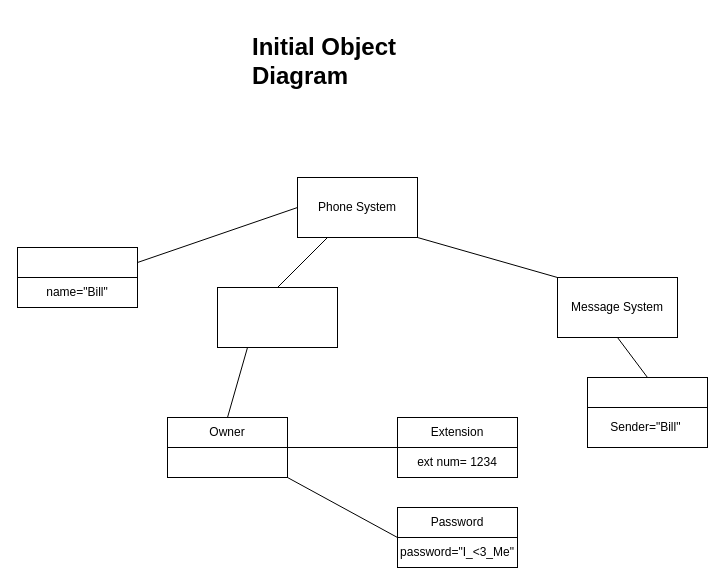
The diagram is 725 pixels wide and 585 high, and some of its shapes have lost their labels. Here are the shapes that lost their labels. From the top down, the centre of each, then its label:
point 77,262: Admin
point 277,317: Phone
point 647,392: Message 1
point 227,462: name="John"
